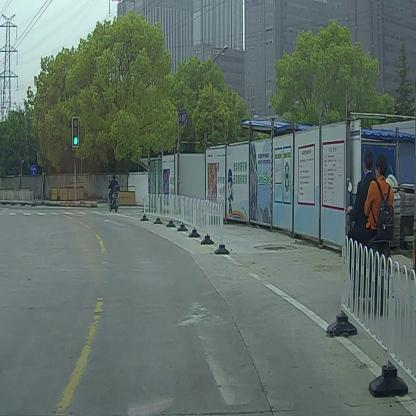Green Light: (72, 114, 80, 150)
